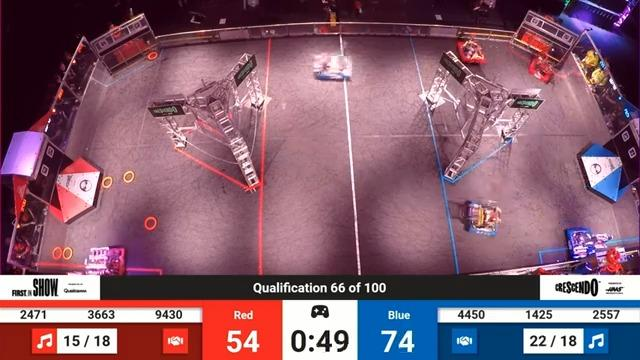robot: (457, 185, 510, 242), (297, 48, 363, 88), (559, 222, 608, 270), (82, 241, 135, 279), (521, 49, 561, 91), (456, 37, 494, 68)
